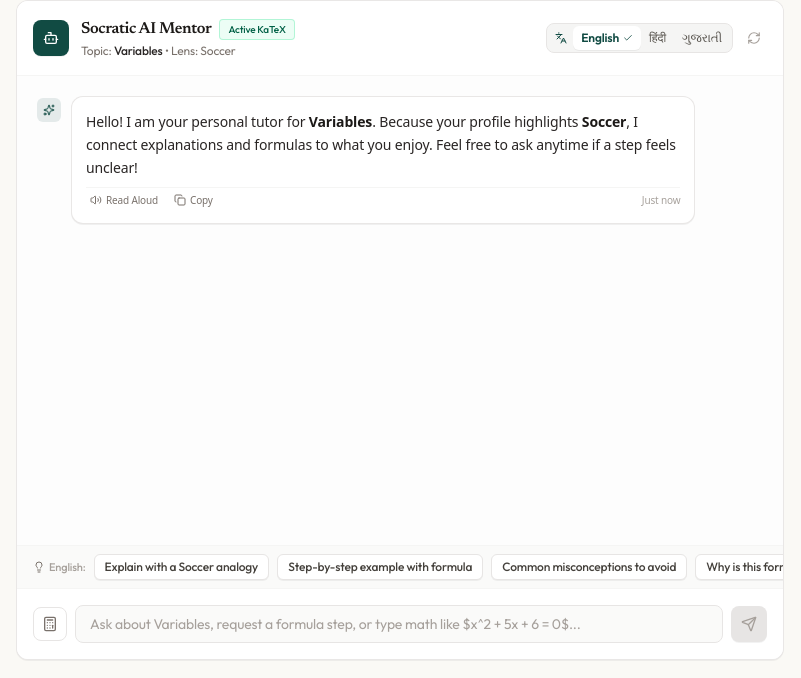
Scenario: AI Tutor Chat Session Persistence › Shows a visible network error when the tutor request fails
This screenshot has width=801, height=678.
Click the button "Explain with a Soccer analogy": (181, 567) [94, 554, 269, 580]
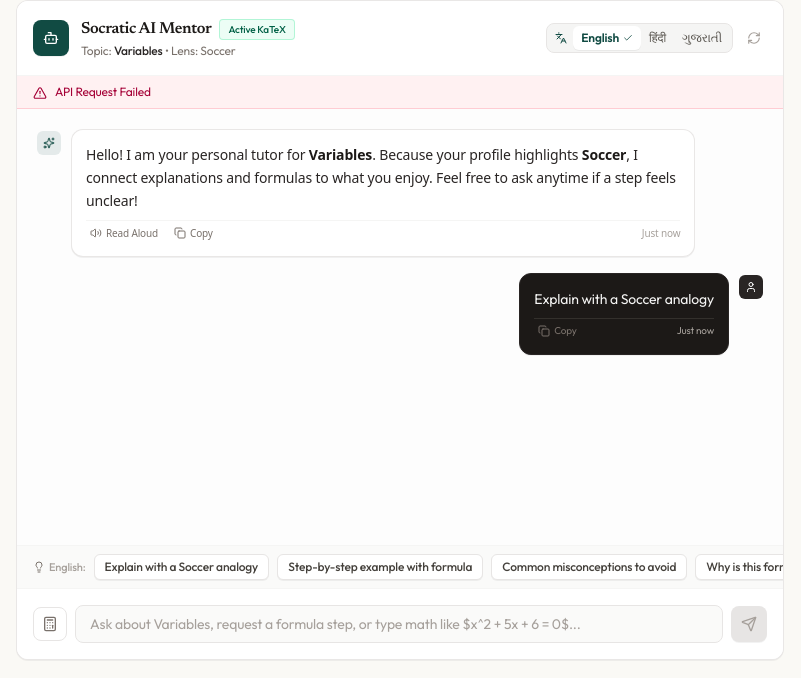
Now the message "API Request Failed" is shown, box [17, 76, 783, 109]
